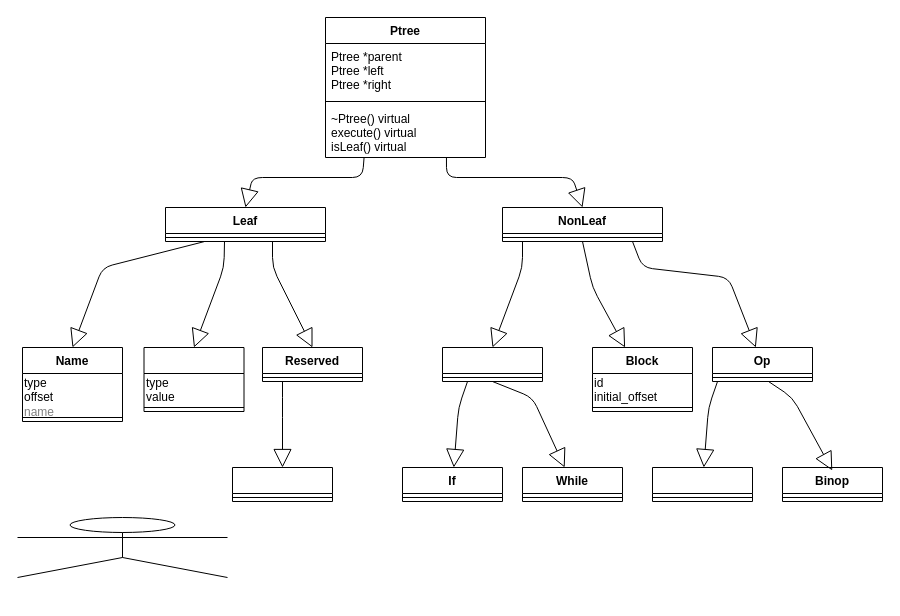
The diagram is 900 pixels wide and 616 high, and some of its shapes have lost their labels. Here are the shapes that lost their labels. From the top down, the box of each, then its label:
(143, 346, 244, 412): Immediate
(442, 346, 542, 382): Branch
(232, 466, 332, 502): ? (input)
(652, 466, 752, 502): Unop
(16, 516, 228, 578): Ruslan
